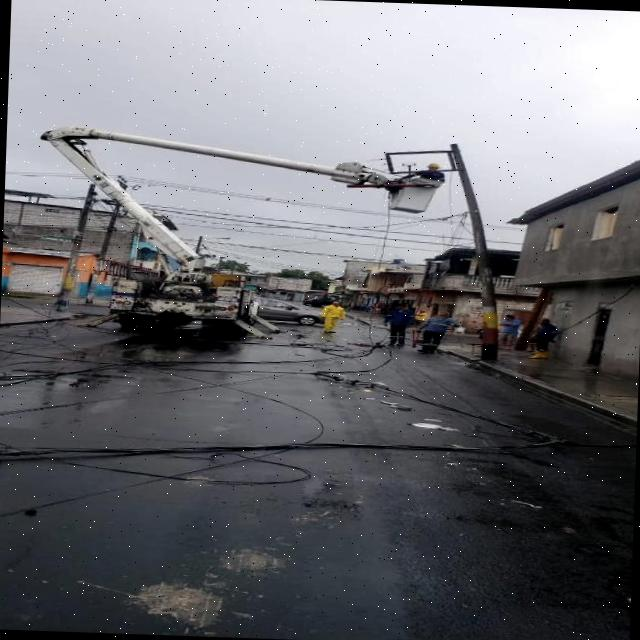Broken Pole: (383, 142, 494, 360)
